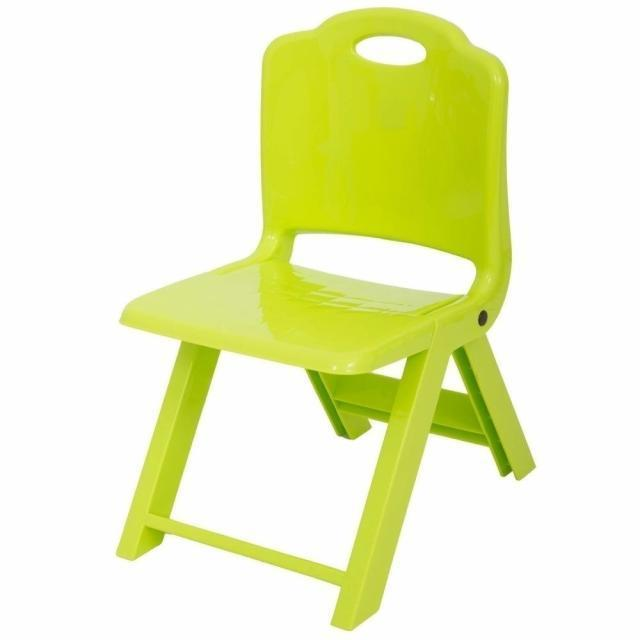chair: (112, 4, 540, 634)
